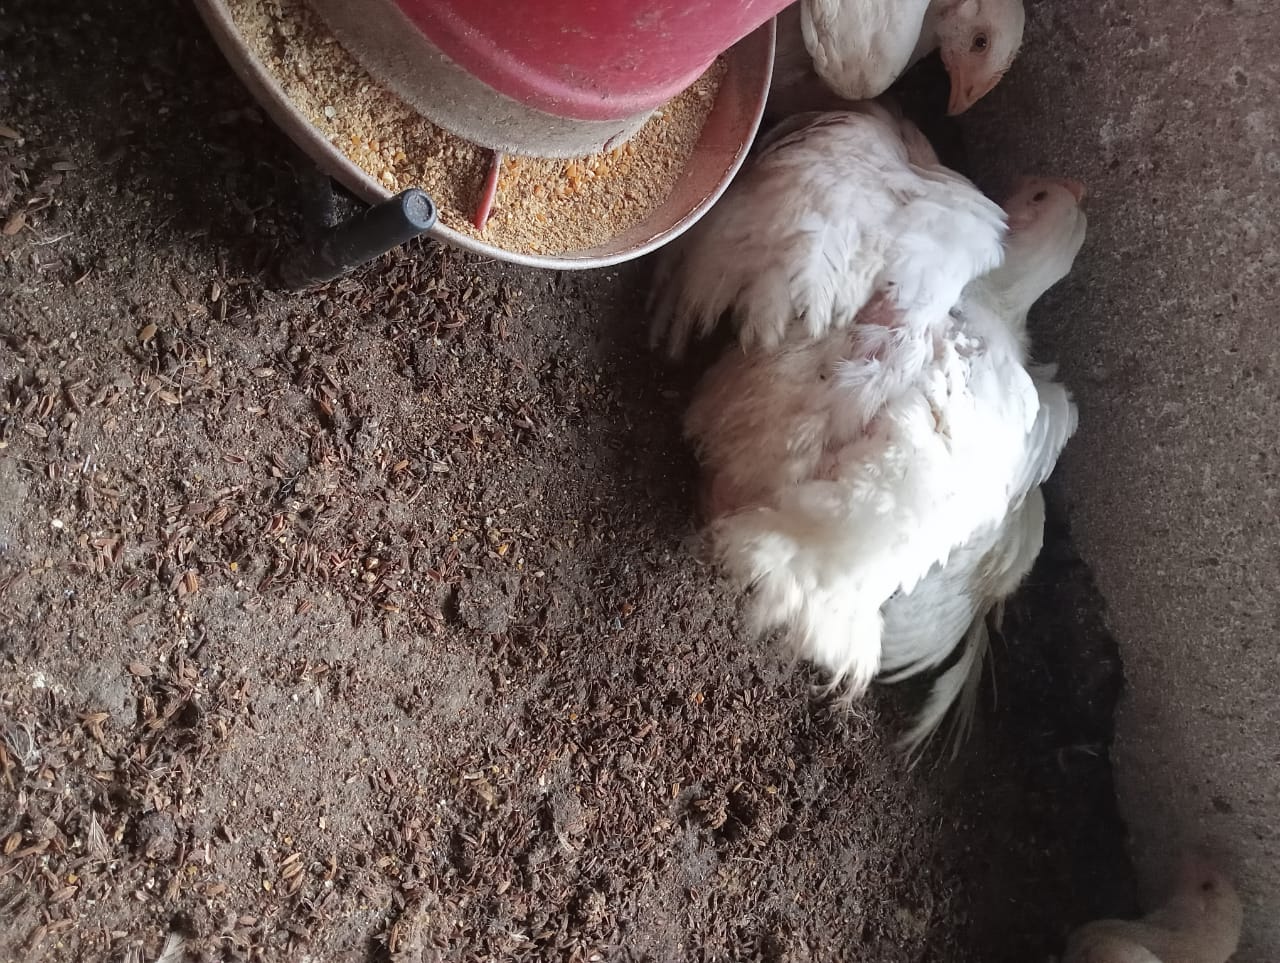Unhealthy: (647, 104, 1111, 767)
